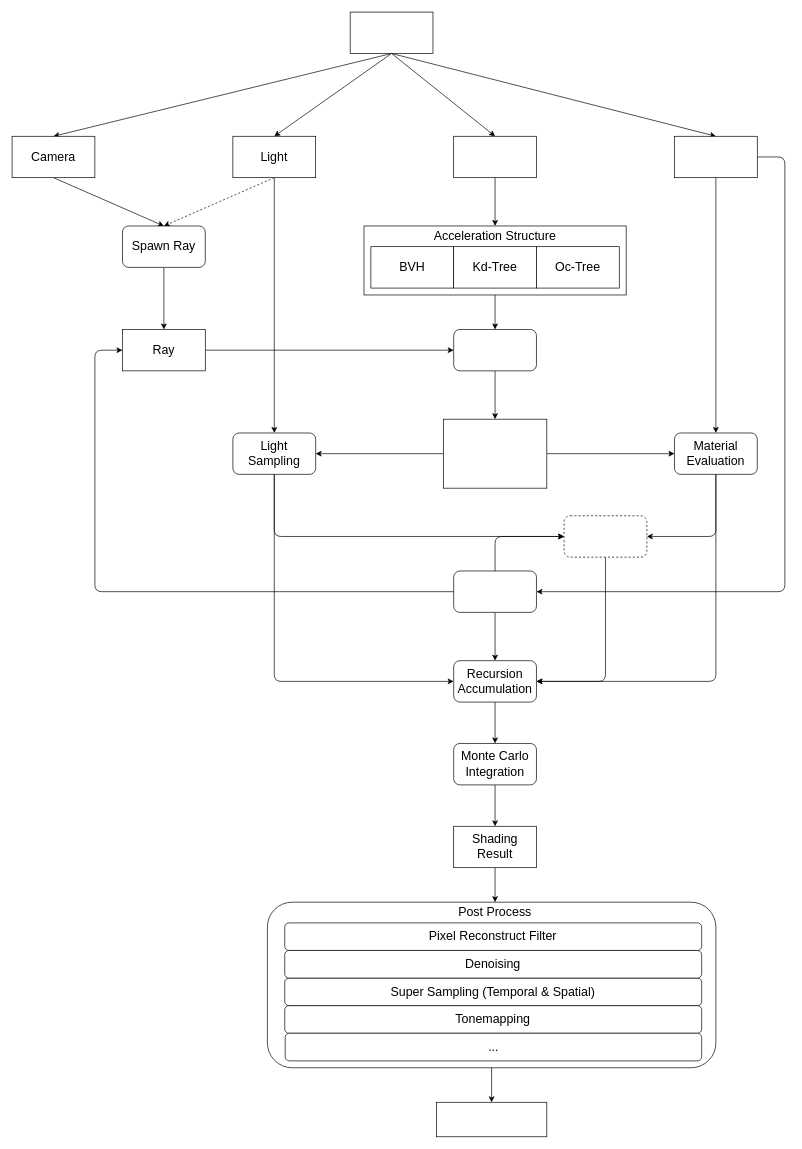
This 802x1149 diagram has some shape labels left out. Each missing label, with the centre of its shape:
Caching: [605,536]
Final Result: [491,1119]
Geometry: [494,157]
Interaction (Instance ID | Material ID | Primitive ID): [495,453]
Intersection: [494,350]
Material: [715,157]
Material Sampling: [494,591]
Scene: [391,32]
